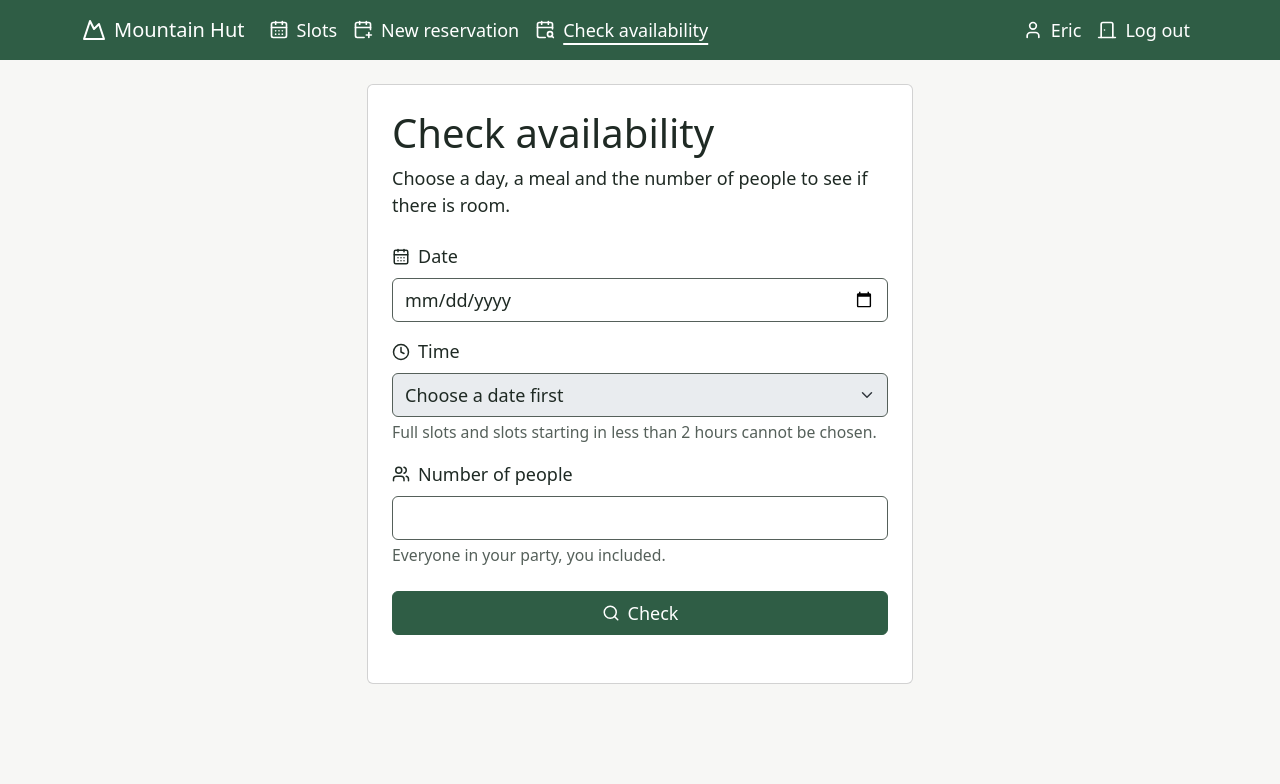
Test: R1 access and navbar › an employee opens the page from the navbar entry "New reservation"
The width and height of the screenshot is (1280, 784).
Click the link "New reservation": (436,30) [353,18,519,42]
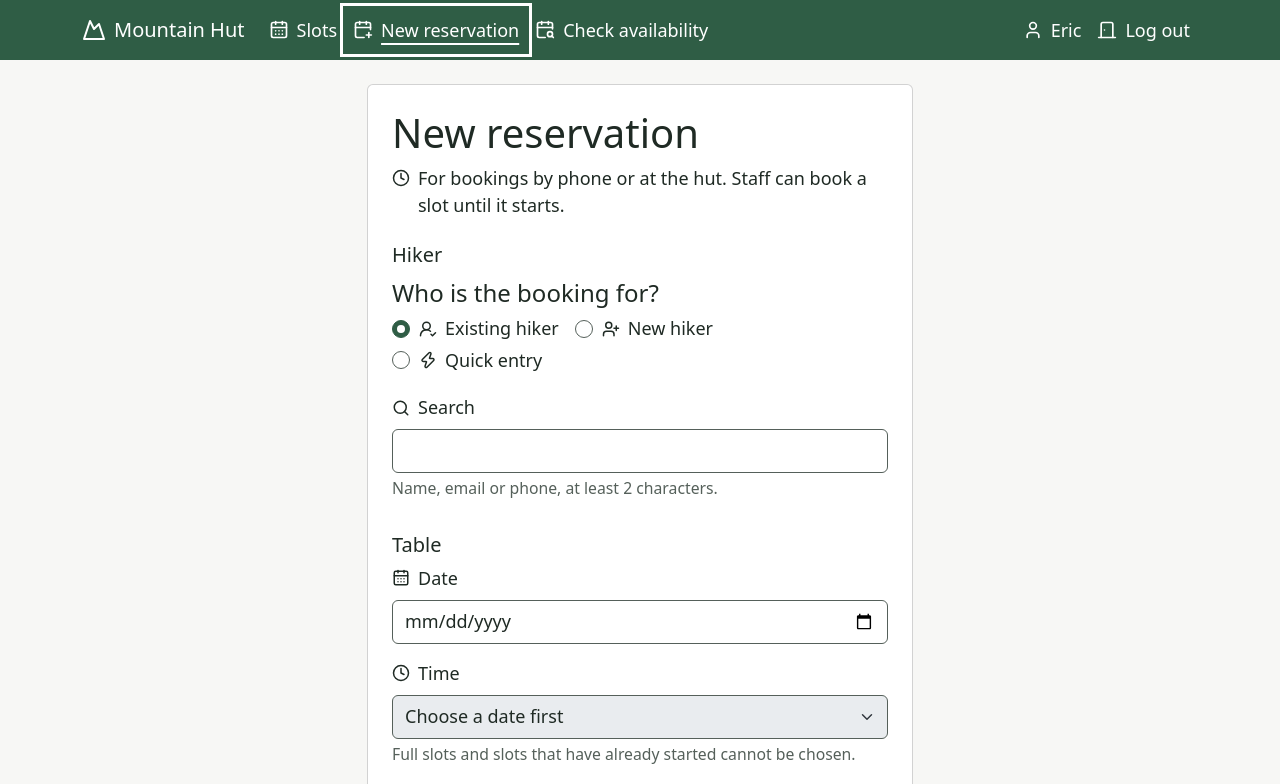
Expected: the heading "New reservation" is shown, [392,105,699,160]
